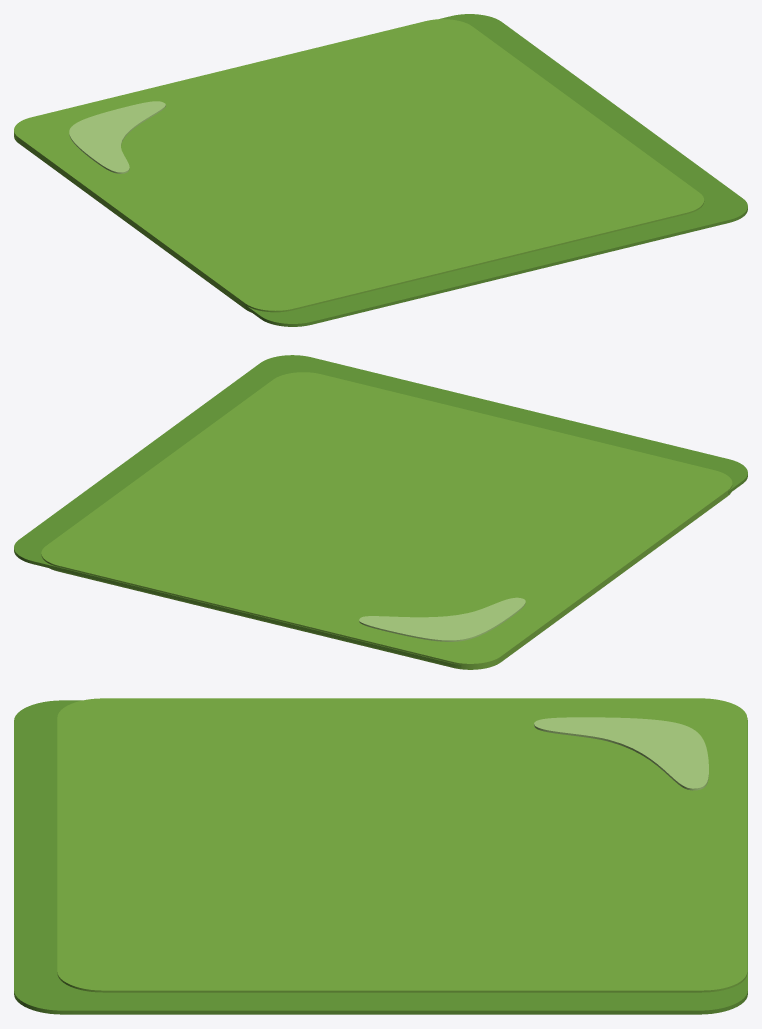
File: emoji_u1f7e9.glb
The picture shows the model from 3 angles, top to bottom: view 1: azimuth 30°, elevation 25°; view 2: azimuth 150°, elevation 25°; view 3: azimuth 270°, elevation 25°; orthographic projection. The views are drawn at different scales.
Visible parts, largest first — view 1: emoji_u1f7e9; view 2: emoji_u1f7e9; view 3: emoji_u1f7e9.
Boxes of the visible parts, box(x1,y1,x2,y2) form: emoji_u1f7e9: box(14, 14, 747, 326); emoji_u1f7e9: box(14, 355, 747, 669); emoji_u1f7e9: box(14, 698, 747, 1014).
Size of the model in its own units: 0.0339 by 0.0006 by 0.0339.
